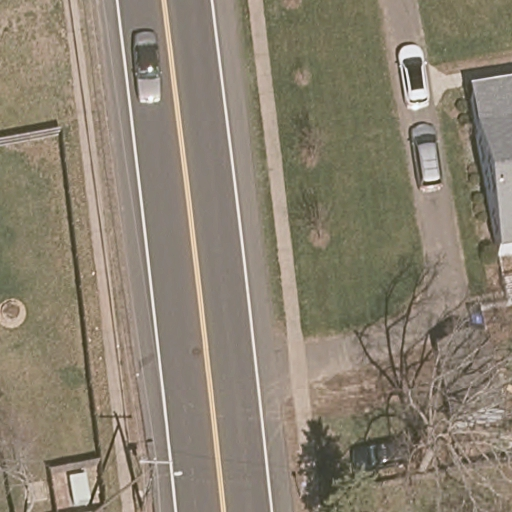DT: (137, 456, 170, 509)
